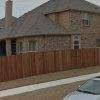Chimney: (2, 1, 21, 33)
